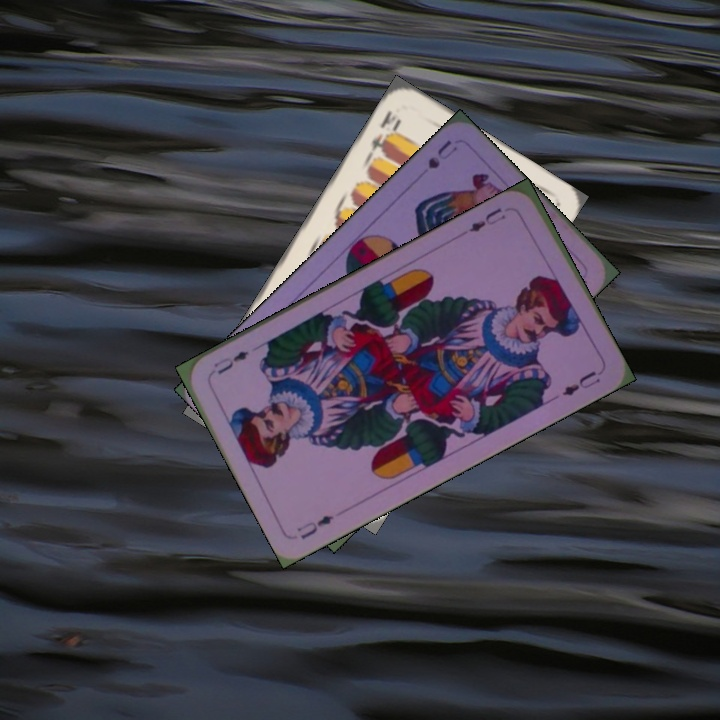E10: (364, 106, 404, 158)
EU: (464, 203, 509, 235), (293, 511, 336, 543)
SU: (424, 135, 460, 172)
